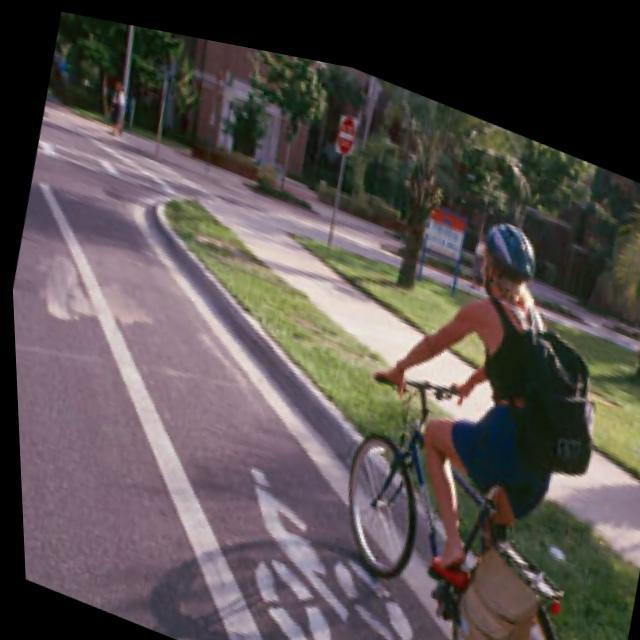Helmet: (475, 209, 541, 306)
